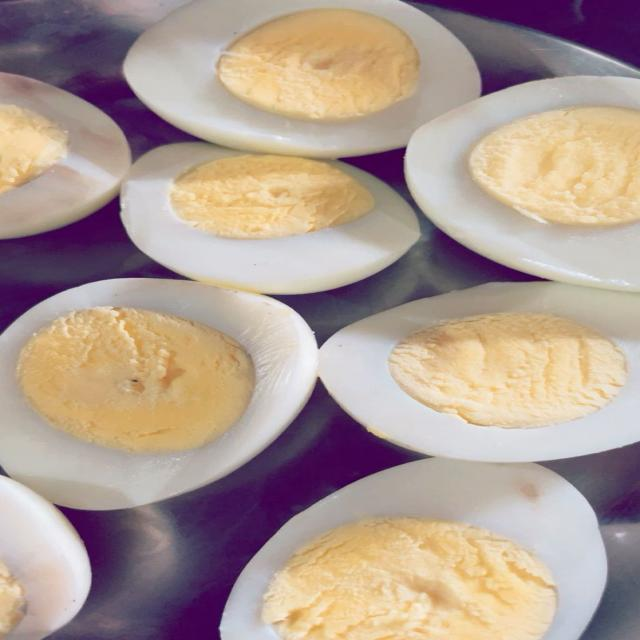eggs: (6, 17, 640, 631)
